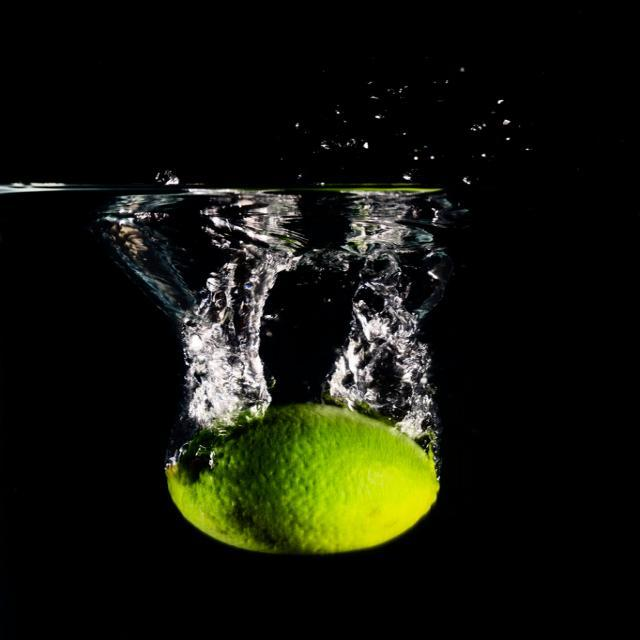Lemon: (166, 403, 437, 556)
